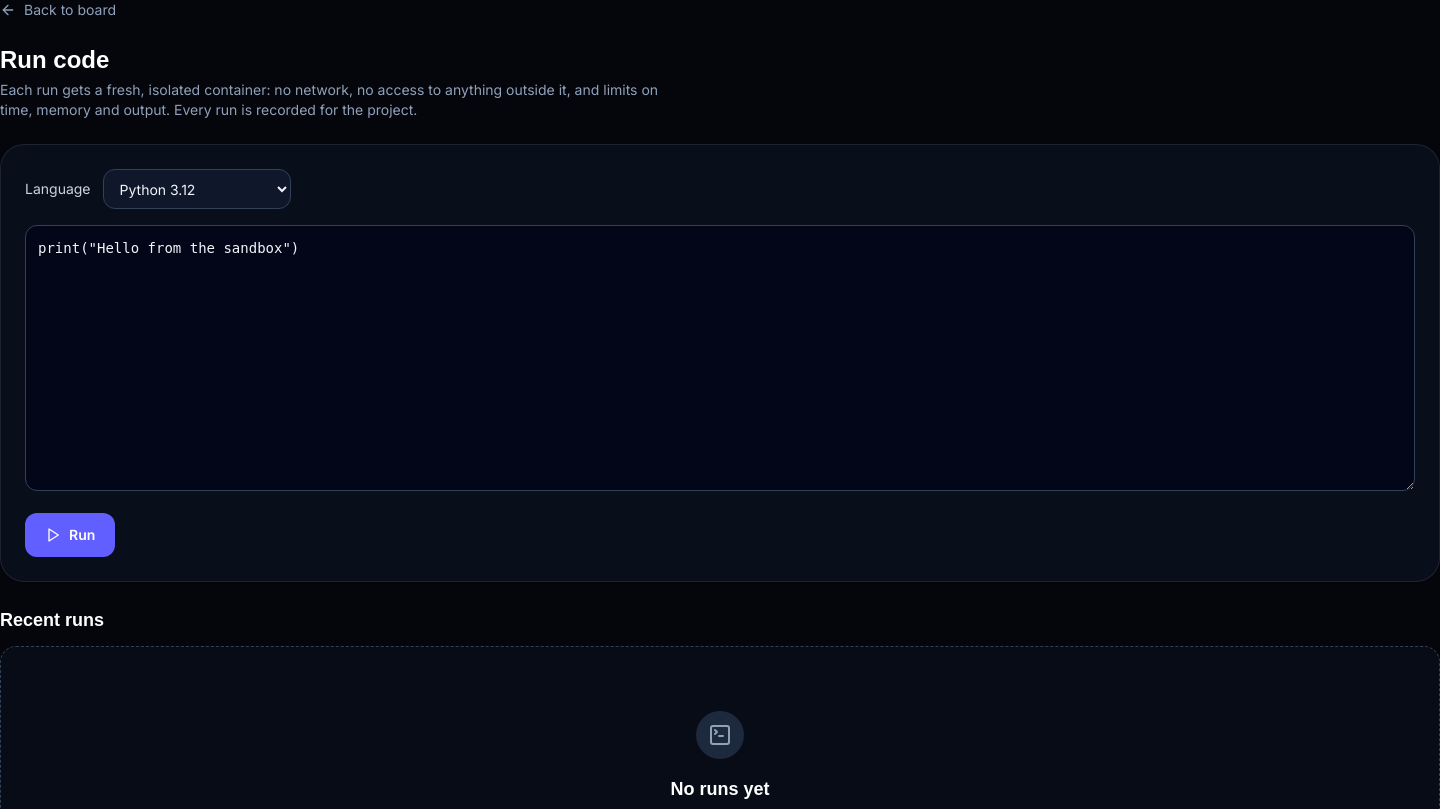
Test: RunCodePage › runs the code and shows the output as text, not markup
The width and height of the screenshot is (1440, 809).
Expected: the heading "No runs yet" is shown, [670,779,770,799]
Click the button "Run" at (70, 535), box [25,513,115,557]
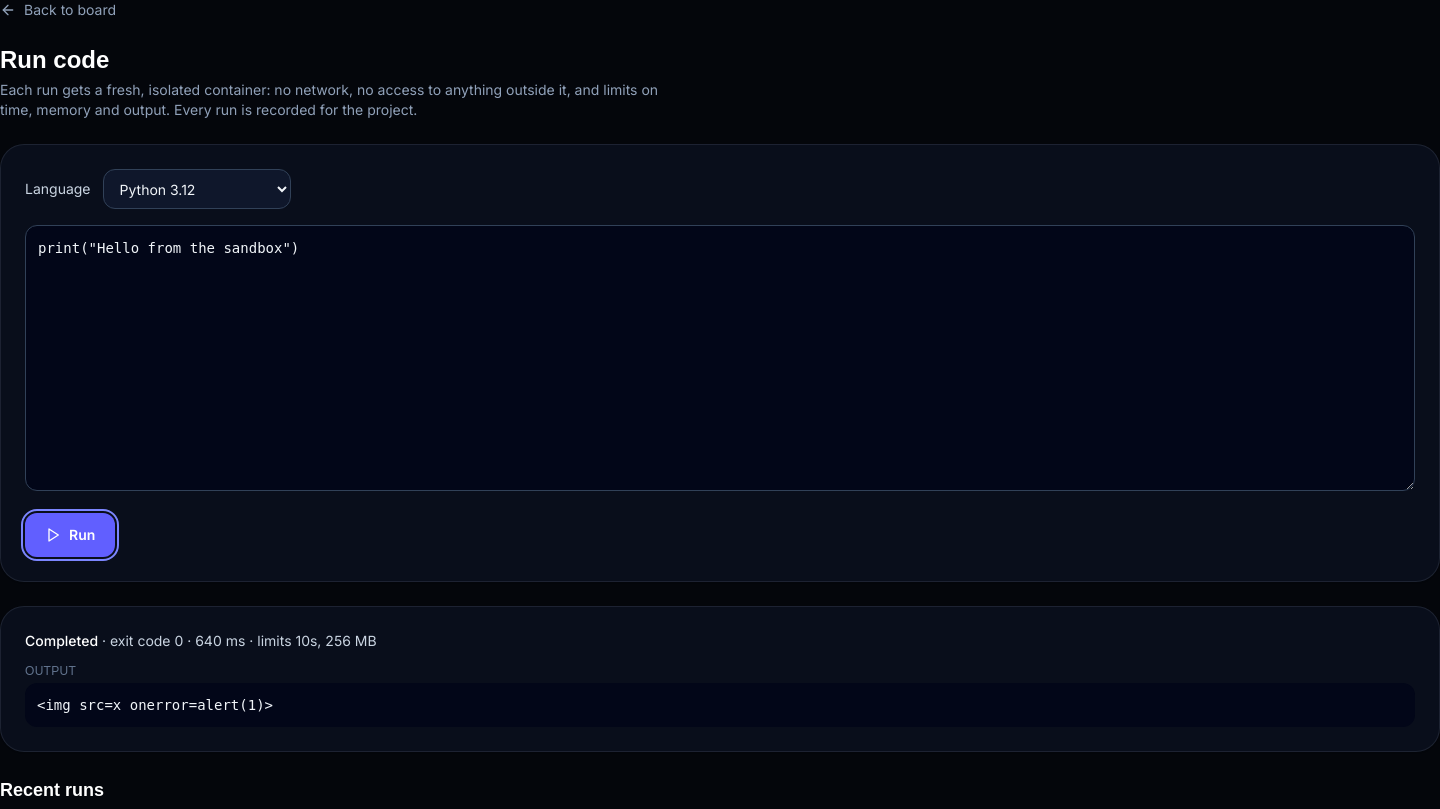
Expected: the text "Completed" is shown, [25,632,98,649]
Expected: the text "<img src=x onerror=alert(1)>" is shown, [25,683,1415,727]
